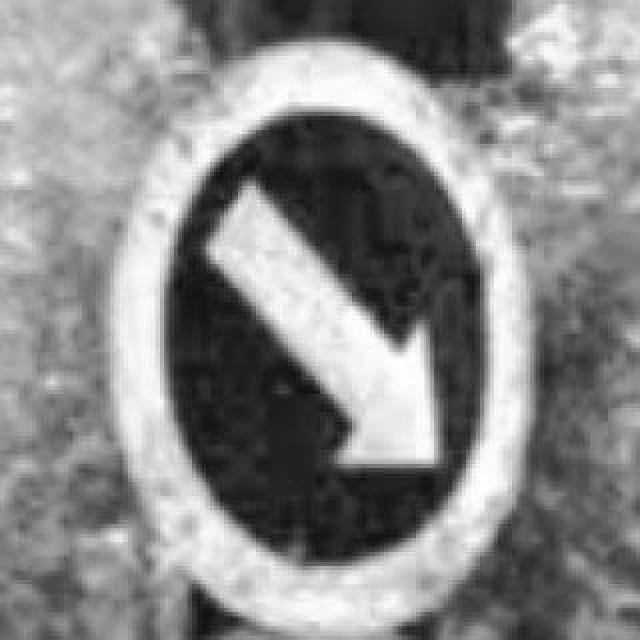keep right: (110, 28, 534, 636)
